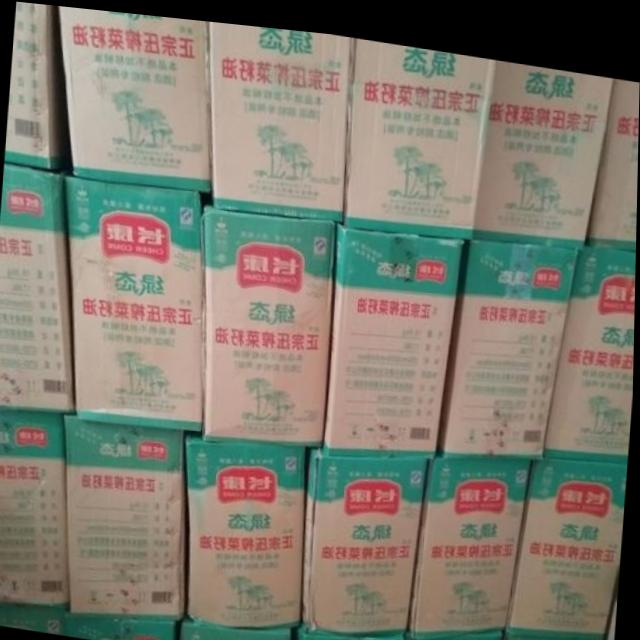box: (61, 174, 205, 426), (323, 221, 467, 451), (435, 230, 584, 448), (205, 201, 341, 436), (343, 32, 492, 231), (56, 5, 214, 190), (209, 17, 353, 217), (474, 52, 617, 232), (63, 411, 187, 613), (301, 438, 427, 628), (185, 426, 309, 618), (408, 446, 537, 629), (507, 442, 629, 626), (541, 230, 637, 450), (0, 163, 81, 407), (0, 407, 73, 608), (6, 1, 69, 169), (586, 66, 640, 239), (70, 607, 183, 640), (182, 610, 297, 640), (297, 617, 407, 640), (505, 619, 607, 640), (0, 604, 71, 633), (406, 620, 507, 640), (602, 557, 621, 640)
